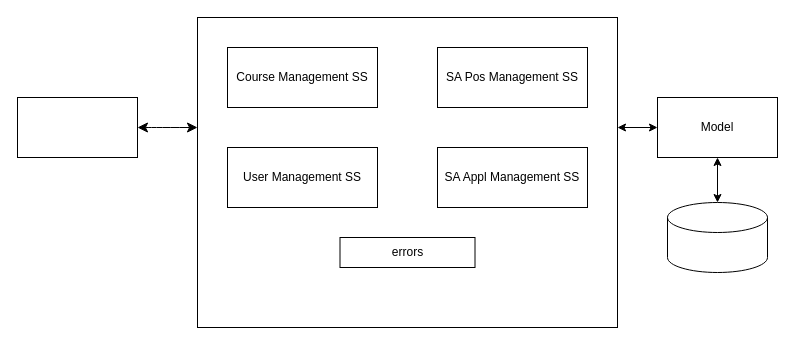
The diagram is 795 pixels wide and 345 high, and some of its shapes have lost their labels. Here are the shapes that lost their labels. From the top down, the box of each, then its label:
(16, 96, 138, 158): View
(196, 16, 618, 328): Controller
(666, 202, 768, 272): Database
